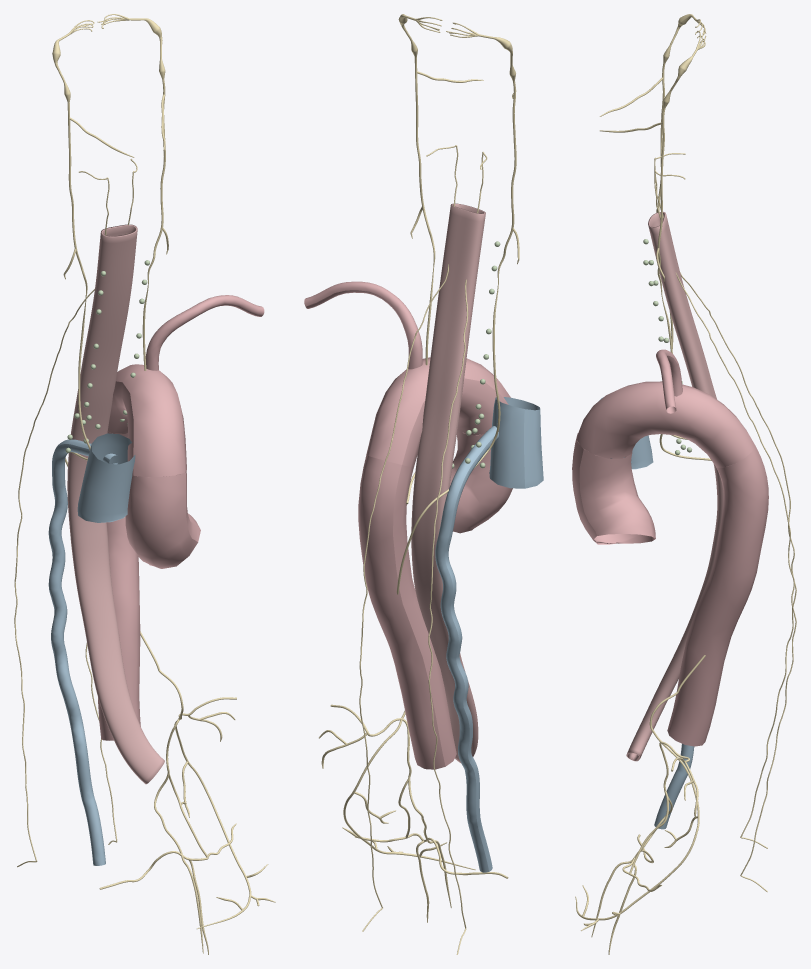
The picture shows the model from 3 angles, left to right: view 1: azimuth 30°, elevation 25°; view 2: azimuth 150°, elevation 25°; view 3: azimuth 270°, elevation 25°; orthographic projection. The views are drawn at different scales.
Visible parts, largest first — view 1: resp_oesophagus, resp_aortic_arch, resp_azygos_vein, resp_ascending_aorta, resp_vagus_nerve_x_r, resp_thoracic_aorta, resp_superior_vena_cava, resp_left_subclavian_artery, resp_vagus_nerve_x_l, resp_sympathetic_trunk_r; view 2: resp_oesophagus, resp_thoracic_aorta, resp_aortic_arch, resp_azygos_vein, resp_vagus_nerve_x_r, resp_superior_vena_cava, resp_ascending_aorta, resp_left_subclavian_artery, resp_vagus_nerve_x_l, resp_sympathetic_trunk_l, resp_sympathetic_trunk_r; view 3: resp_thoracic_aorta, resp_aortic_arch, resp_oesophagus, resp_ascending_aorta, resp_vagus_nerve_x_r, resp_vagus_nerve_x_l, resp_sympathetic_trunk_l, resp_sympathetic_trunk_r, resp_left_subclavian_artery, resp_azygos_vein, resp_superior_vena_cava.
Part boxes in pixels (box(x1,y1,x2,y2)): resp_oesophagus: box(67, 224, 164, 784); resp_aortic_arch: box(108, 364, 186, 476); resp_azygos_vein: box(48, 439, 117, 865); resp_ascending_aorta: box(125, 471, 200, 568); resp_vagus_nerve_x_r: box(52, 20, 275, 954); resp_thoracic_aorta: box(98, 431, 140, 740); resp_superior_vena_cava: box(77, 433, 135, 522); resp_left_subclavian_artery: box(145, 295, 264, 370); resp_vagus_nerve_x_l: box(97, 14, 168, 370); resp_sympathetic_trunk_r: box(14, 171, 109, 867); resp_oesophagus: box(411, 203, 485, 763); resp_thoracic_aorta: box(358, 455, 456, 769); resp_aortic_arch: box(366, 357, 510, 467); resp_azygos_vein: box(435, 426, 498, 872); resp_vagus_nerve_x_r: box(319, 22, 519, 922); resp_superior_vena_cava: box(489, 397, 543, 488); resp_ascending_aorta: box(450, 428, 512, 533); resp_left_subclavian_artery: box(304, 281, 422, 369); resp_vagus_nerve_x_l: box(398, 14, 483, 504); resp_sympathetic_trunk_l: box(359, 145, 458, 931); resp_sympathetic_trunk_r: box(428, 151, 487, 954); resp_thoracic_aorta: box(667, 446, 768, 746); resp_aortic_arch: box(576, 381, 755, 467); resp_oesophagus: box(626, 212, 723, 761); resp_ascending_aorta: box(572, 433, 655, 544); resp_vagus_nerve_x_r: box(575, 14, 706, 954); resp_vagus_nerve_x_l: box(599, 31, 711, 460); resp_sympathetic_trunk_l: box(654, 170, 796, 891); resp_sympathetic_trunk_r: box(654, 153, 796, 848); resp_left_subclavian_artery: box(656, 349, 682, 413); resp_azygos_vein: box(654, 743, 694, 829); resp_superior_vena_cava: box(598, 397, 653, 469).
Bounding box in the file's own units: 2.19 × 9.42 × 2.14.
